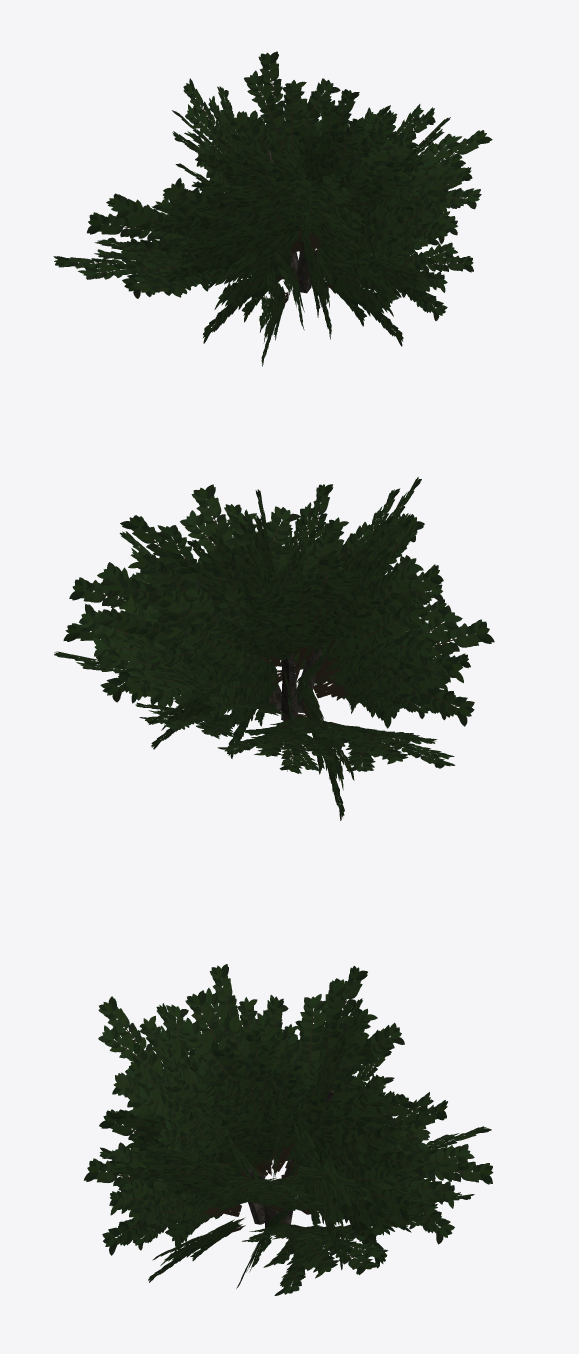
File: shrub_green_bush.glb
The picture shows the model from 3 angles, top to bottom: view 1: azimuth 30°, elevation 25°; view 2: azimuth 150°, elevation 25°; view 3: azimuth 270°, elevation 25°; orthographic projection. The views are drawn at different scales.
Visible parts, largest first — view 1: shrub_green_bush_shrub_green_leaves, shrub_green_bush_bark_dead; view 2: shrub_green_bush_shrub_green_leaves, shrub_green_bush_bark_dead; view 3: shrub_green_bush_shrub_green_leaves, shrub_green_bush_bark_dead.
Boxes of the visible parts, <box> form: shrub_green_bush_shrub_green_leaves: <box>53,51,492,366</box>; shrub_green_bush_bark_dead: <box>267,151,398,293</box>; shrub_green_bush_shrub_green_leaves: <box>54,477,494,820</box>; shrub_green_bush_bark_dead: <box>267,576,327,720</box>; shrub_green_bush_shrub_green_leaves: <box>83,964,493,1295</box>; shrub_green_bush_bark_dead: <box>233,1079,334,1228</box>.
Size of the model in its own units: 2.32 by 1.35 by 1.99.
Materials: 2 (2 with a texture image).
